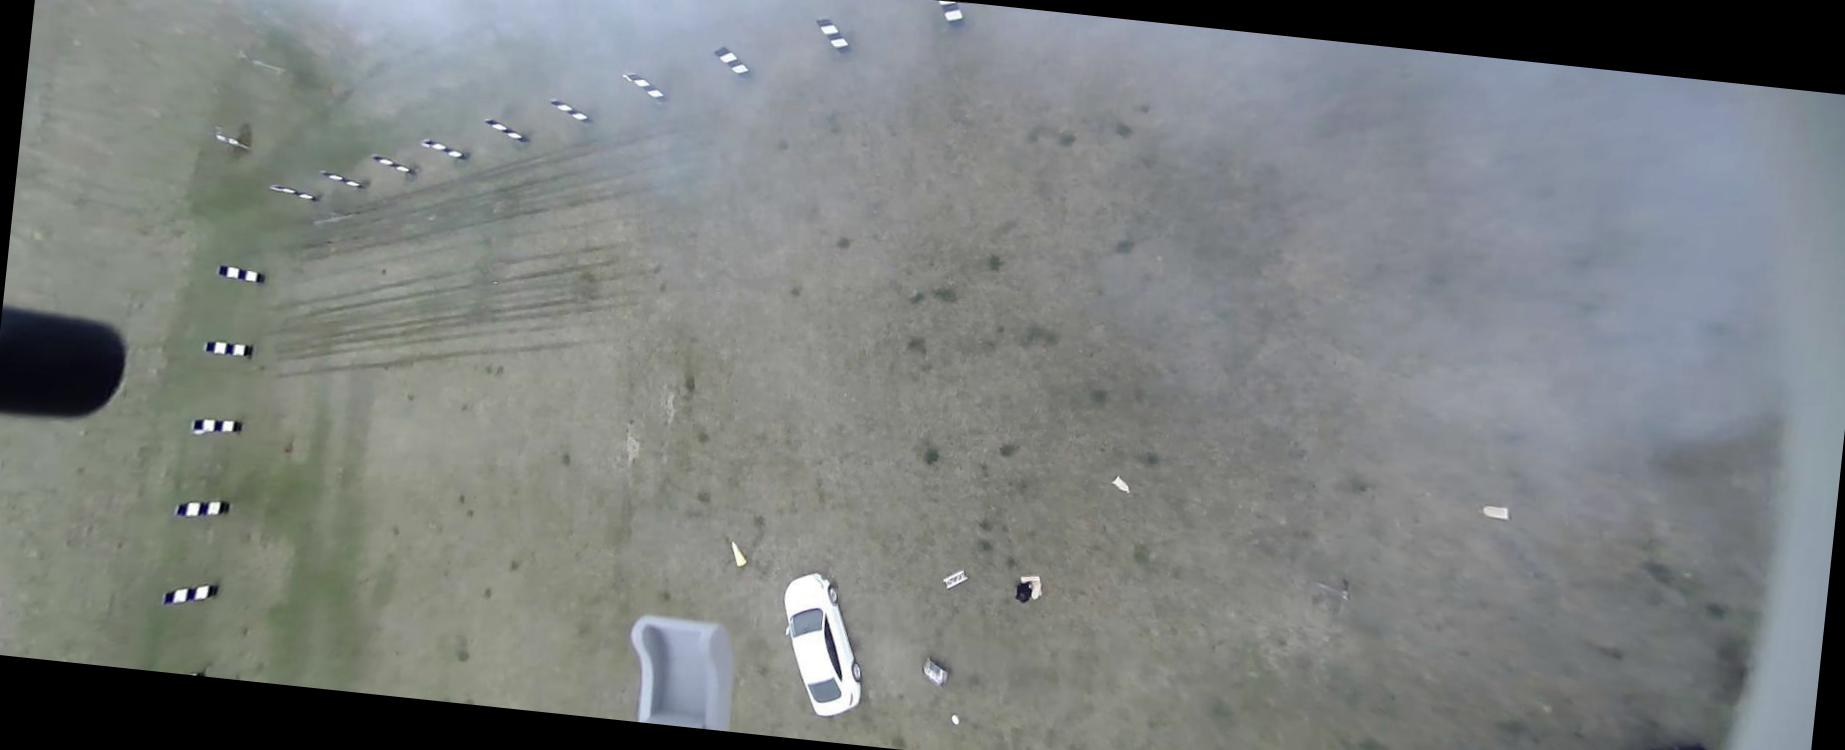vehicle: (771, 571, 872, 721), (1472, 721, 1723, 749)
